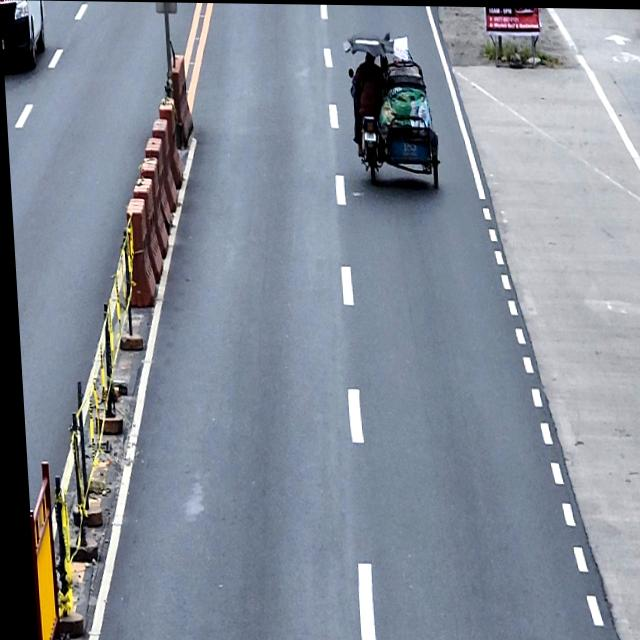Car: (0, 1, 47, 69)
License-Plate: (362, 130, 375, 140)
Tricycle: (340, 29, 442, 189)
